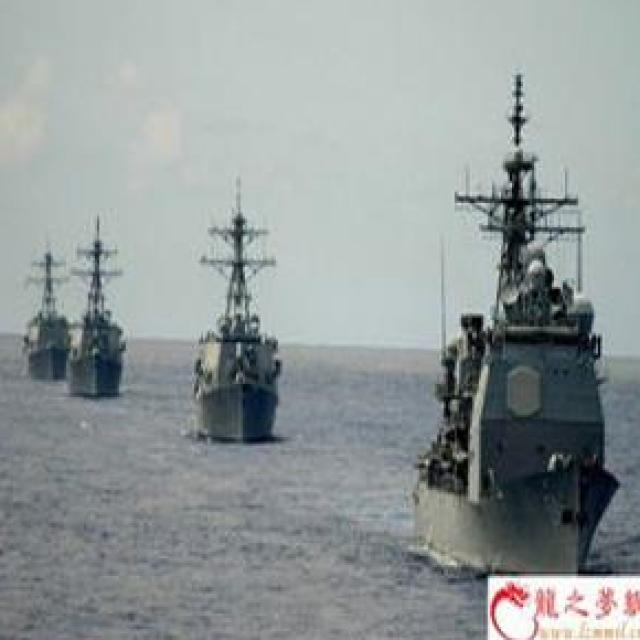navalvessels: (390, 73, 620, 586), (175, 208, 299, 463), (48, 216, 133, 398), (4, 243, 56, 382)
